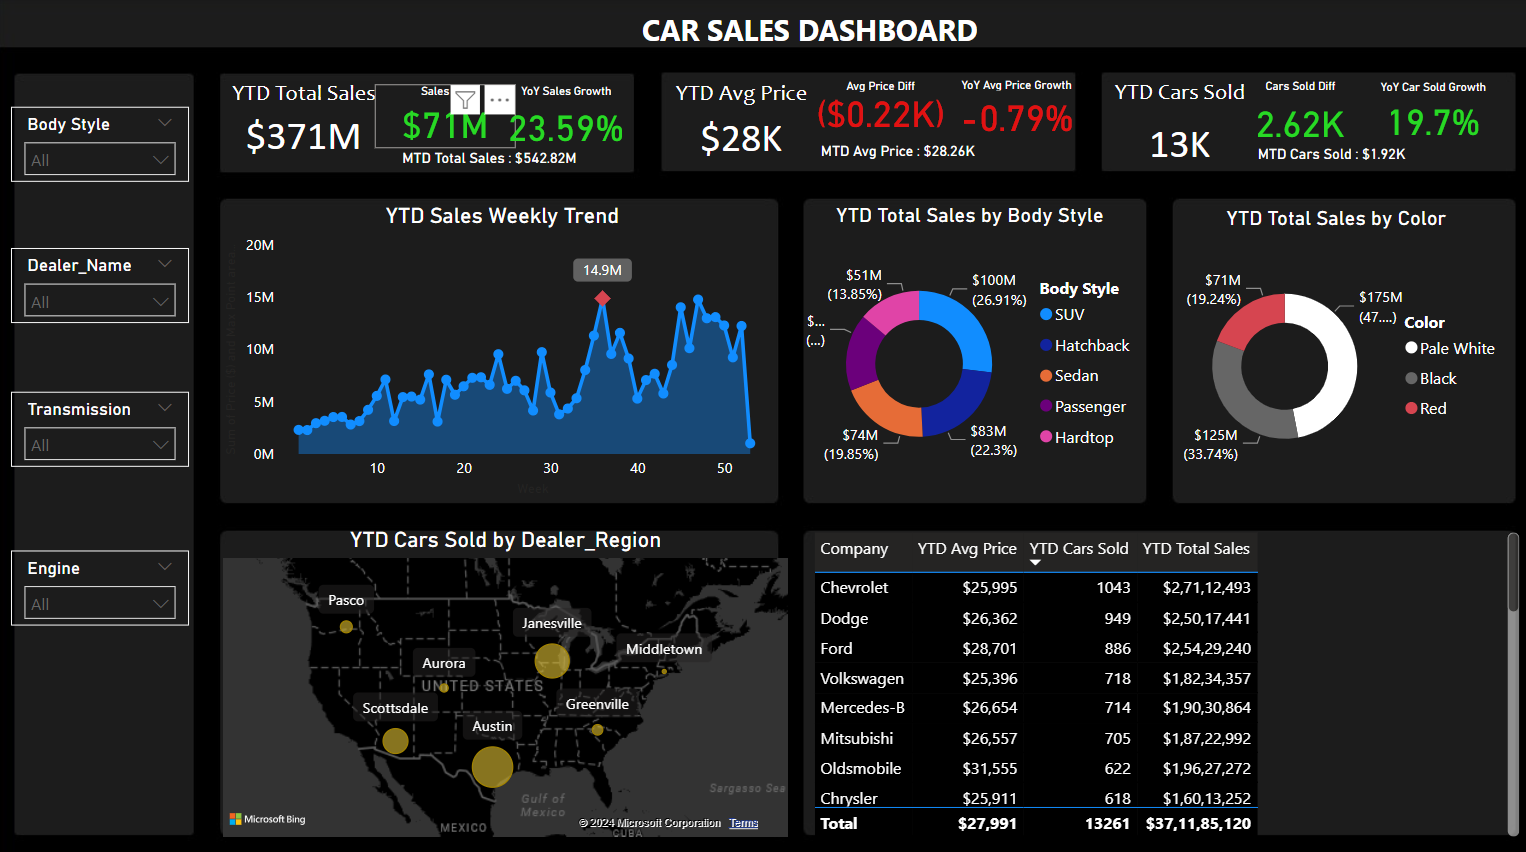

The dashboard page shown, as its layout file describes it:
{"tool":"powerbi","page":{"name":"CarSales","canvas":[1280,720],"ordinal":0},"visuals":[{"type":"card","title":"YTD Total Sales","fields":{"Values":["car_data.YTD Total Sales"]},"box":[183.6,67.6,144.1,68.8],"z":0},{"type":"card","title":"Sales Diff","fields":{"Values":["car_data.sales diff"]},"box":[314.9,71.4,117.3,53.5],"z":1000},{"type":"card","title":"YoY Sales Growth","fields":{"Values":["car_data.YOY Sales Growth"]},"box":[419.4,71.4,108.4,58.6],"z":2000},{"type":"card","fields":{"Values":["car_data.MTD KPI"]},"box":[293.2,118.6,234.6,31.9],"z":3000},{"type":"card","title":"YTD Avg Price","fields":{"Values":["car_data.YTD Avg Price"]},"box":[553.3,67.6,133.9,71.4],"z":4000},{"type":"card","title":"Avg Price Diff","fields":{"Values":["car_data.Avg Price diff"]},"box":[675.7,67.6,119.8,44.6],"z":5000},{"type":"card","title":"YoY Avg Price Growth","fields":{"Values":["car_data.YOY Avg Price Growth"]},"box":[781.5,66.3,133.9,53.5],"z":6000},{"type":"card","fields":{"Values":["car_data.MTD Avgprice KPI"]},"box":[642.5,113.5,215.5,31.9],"z":7000},{"type":"card","title":"YTD Cars Sold","fields":{"Values":["car_data.YTD Cars Sold"]},"box":[910.3,66.3,147.9,84.1],"z":8000},{"type":"card","title":"Cars Sold Diff","fields":{"Values":["car_data.Cars Sold Diff"]},"box":[1014.8,67.6,140.2,61.2],"z":9000},{"type":"card","title":"YoY Car Sold Growth","fields":{"Values":["car_data.YoY Car Sold Growth"]},"box":[1128.3,68.8,132.6,56.1],"z":10000},{"type":"card","fields":{"Values":["car_data.MTD Cars Sold KPI"]},"box":[1042.9,116,136.4,29.3],"z":11000},{"type":"textbox","title":"CAR SALES DASHBOARD","box":[409.2,10.2,534.2,37],"z":12000},{"type":"areaChart","title":"YTD Sales Weekly Trend","fields":{"Category":["Calendar Table.Week"],"Y":["Sum(car_data.Price ($))","car_data.Max Point areachart"]},"box":[184.9,170.8,471.7,248.6],"z":13000},{"type":"donutChart","fields":{"Category":["car_data.Body Style"],"Y":["car_data.YTD Total Sales"]},"box":[662.9,170.8,293.2,248.6],"z":14000},{"type":"donutChart","fields":{"Y":["car_data.YTD Total Sales"],"Category":["car_data.Color"]},"box":[967.6,172.1,293.2,248.6],"z":15000},{"type":"map","fields":{"Category":["car_data.Dealer_Region"],"Size":["car_data.YTD Cars Sold"]},"box":[183.6,439.8,479.4,262.6],"z":16000},{"type":"tableEx","fields":{"Values":["car_data.Company","car_data.YTD Avg Price","car_data.YTD Cars Sold","car_data.YTD Total Sales"]},"box":[674.4,439.8,596.7,262.6],"z":17000},{"type":"slicer","fields":{"Values":["car_data.Body Style"]},"box":[12.7,90.5,147.9,62.5],"z":18000},{"type":"slicer","fields":{"Values":["car_data.Dealer_Name"]},"box":[12.7,207.8,147.9,62.5],"z":19000},{"type":"slicer","fields":{"Values":["car_data.Transmission"]},"box":[12.7,327.6,147.9,62.5],"z":20000},{"type":"slicer","fields":{"Values":["car_data.Engine"]},"box":[12.7,459,147.9,62.5],"z":21000}]}

Visuals, with their boxes in screenshot pixels (x1, y1, x2, y2), scaled from the page's 1280x720 canvas onto the 1526x852 screenshot:
"YTD Total Sales" card: region(219, 80, 391, 161)
"Sales Diff" card: region(375, 84, 515, 148)
"YoY Sales Growth" card: region(500, 84, 629, 154)
card - car_data.MTD KPI: region(350, 140, 629, 178)
"YTD Avg Price" card: region(660, 80, 819, 164)
"Avg Price Diff" card: region(806, 80, 948, 133)
"YoY Avg Price Growth" card: region(932, 78, 1091, 142)
card - car_data.MTD Avgprice KPI: region(766, 134, 1023, 172)
"YTD Cars Sold" card: region(1085, 78, 1262, 178)
"Cars Sold Diff" card: region(1210, 80, 1377, 152)
"YoY Car Sold Growth" card: region(1345, 81, 1503, 148)
card - car_data.MTD Cars Sold KPI: region(1243, 137, 1406, 172)
"CAR SALES DASHBOARD" textbox: region(488, 12, 1125, 56)
"YTD Sales Weekly Trend" areaChart: region(220, 202, 783, 496)
donutChart - car_data.Body Style x car_data.YTD Total Sales: region(790, 202, 1140, 496)
donutChart - car_data.YTD Total Sales x car_data.Color: region(1154, 204, 1503, 498)
map - car_data.Dealer_Region x car_data.YTD Cars Sold: region(219, 520, 790, 831)
tableEx - car_data.Company x car_data.YTD Avg Price: region(804, 520, 1515, 831)
slicer - car_data.Body Style: region(15, 107, 191, 181)
slicer - car_data.Dealer_Name: region(15, 246, 191, 320)
slicer - car_data.Transmission: region(15, 388, 191, 462)
slicer - car_data.Engine: region(15, 543, 191, 617)
